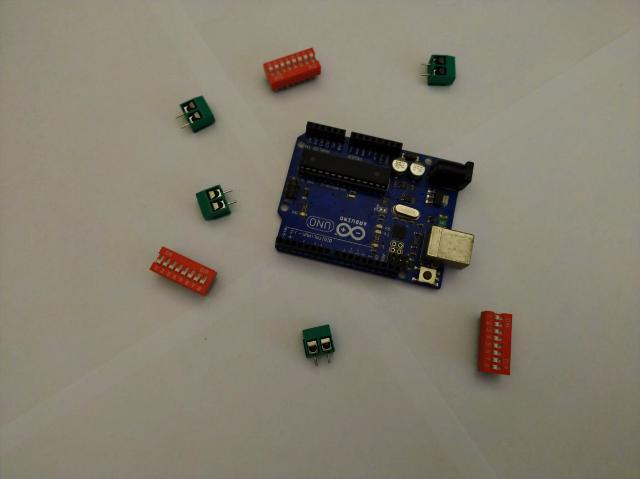arduino: (274, 121, 476, 291)
dip_switch: (149, 246, 217, 296), (264, 47, 320, 91), (477, 310, 513, 376)
terminal_block: (196, 182, 237, 220), (176, 96, 214, 134), (302, 325, 336, 367), (420, 54, 456, 86)
